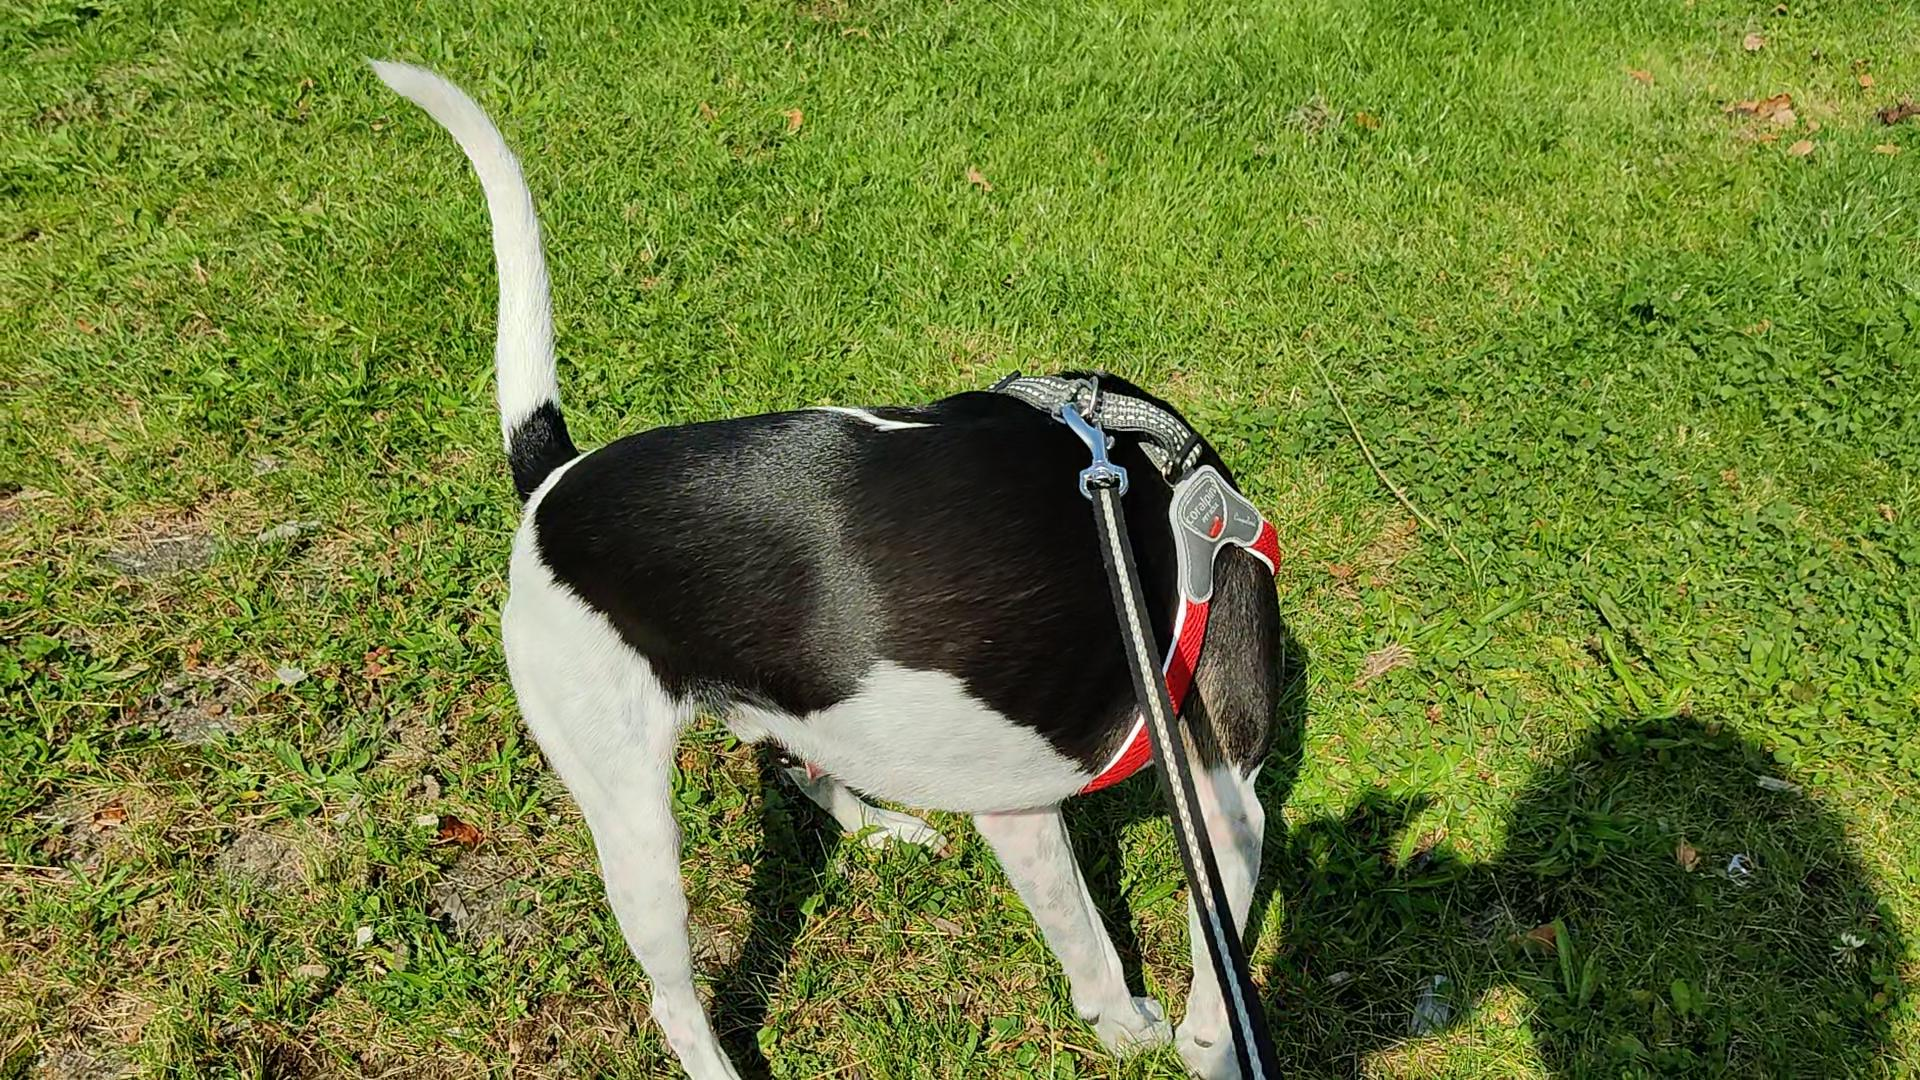Dog: (356, 42, 1296, 1079)
